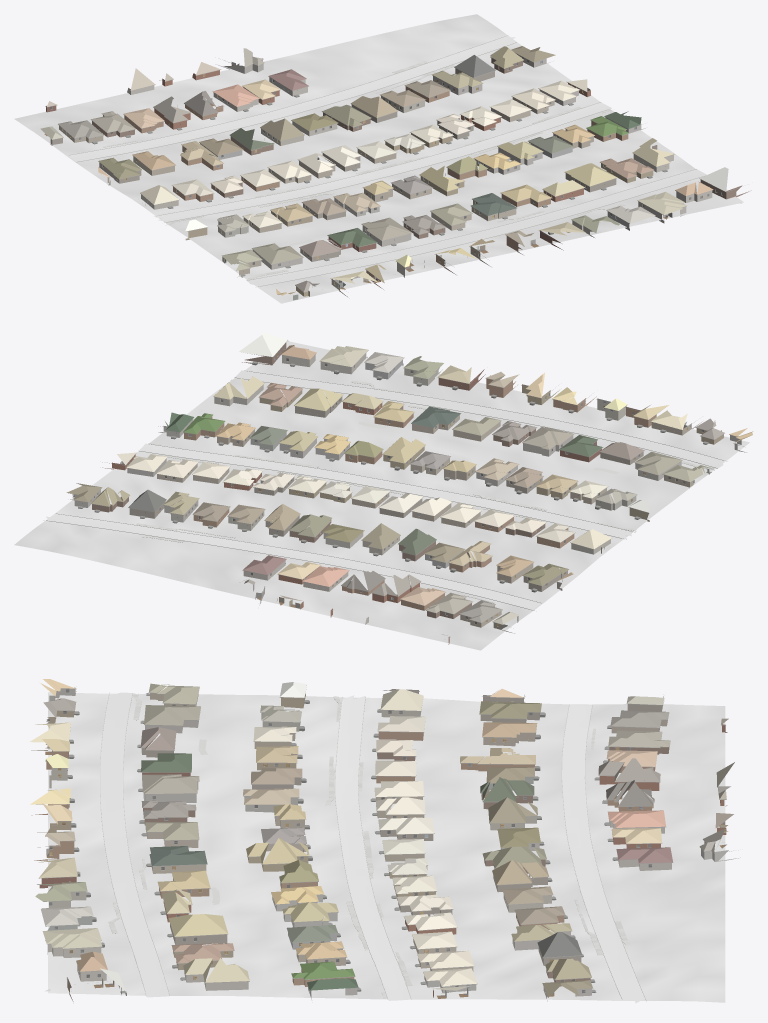
3 views of the same model, one above another, from view 1: azimuth 30°, elevation 25°; view 2: azimuth 150°, elevation 25°; view 3: azimuth 270°, elevation 25° (orthographic). The views are drawn at different scales.
Visible parts, largest first — view 1: ground, roof, concrete, wall, detail, wall_stucco, curb, wall_stone, walk, glass; view 2: ground, roof, concrete, wall, wall_stucco, detail, curb, wall_stone, walk, glass; view 3: ground, roof, concrete, wall, detail, wall_stucco, wall_stone, walk, curb, glass.
Part boxes in pixels (bbox=[...]): ground: bbox=[14, 14, 743, 303]; roof: bbox=[40, 46, 728, 295]; concrete: bbox=[69, 36, 706, 285]; wall: bbox=[46, 58, 751, 296]; detail: bbox=[45, 53, 741, 295]; wall_stucco: bbox=[127, 77, 712, 277]; curb: bbox=[69, 35, 705, 286]; wall_stone: bbox=[218, 55, 645, 269]; walk: bbox=[103, 61, 742, 280]; glass: bbox=[50, 57, 722, 275]; ground: bbox=[14, 341, 749, 650]; roof: bbox=[66, 332, 753, 635]; concrete: bbox=[46, 370, 723, 609]; wall: bbox=[92, 342, 723, 644]; wall_stucco: bbox=[157, 353, 636, 624]; detail: bbox=[68, 340, 743, 639]; curb: bbox=[43, 370, 726, 610]; wall_stone: bbox=[70, 419, 746, 605]; walk: bbox=[136, 339, 716, 602]; glass: bbox=[72, 347, 703, 624]; ground: bbox=[48, 692, 725, 1002]; roof: bbox=[30, 679, 734, 997]; concrete: bbox=[100, 692, 644, 1003]; wall: bbox=[31, 689, 727, 1001]; detail: bbox=[36, 685, 738, 996]; wall_stucco: bbox=[41, 710, 730, 990]; wall_stone: bbox=[49, 687, 740, 1001]; walk: bbox=[45, 693, 630, 998]; curb: bbox=[100, 693, 646, 1001]; glass: bbox=[46, 689, 651, 993].
Size of the model in its own units: 267 by 17.48 by 273.
